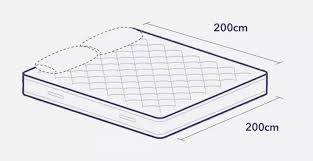bed-matress: (20, 24, 270, 139)
